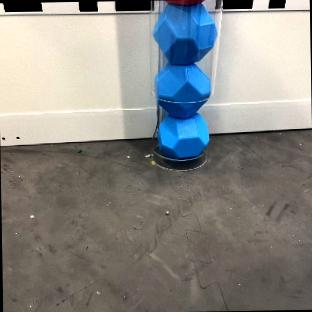V5_BLUE: (152, 1, 216, 62), (154, 60, 211, 118), (157, 112, 208, 159)
